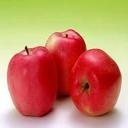apple: (69, 48, 122, 116)
